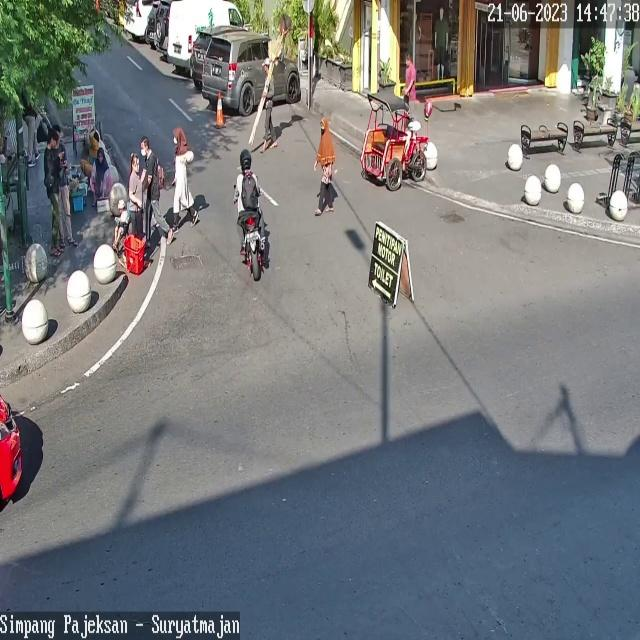bus: (239, 209, 265, 282)
motorcycle: (202, 31, 300, 116), (166, 0, 244, 67), (0, 398, 23, 501), (191, 28, 213, 82), (123, 0, 152, 36)
